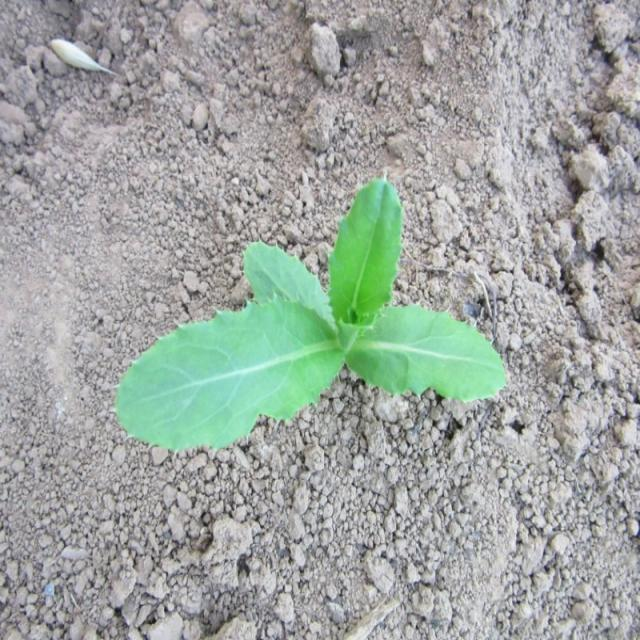cs: (111, 170, 509, 456)
